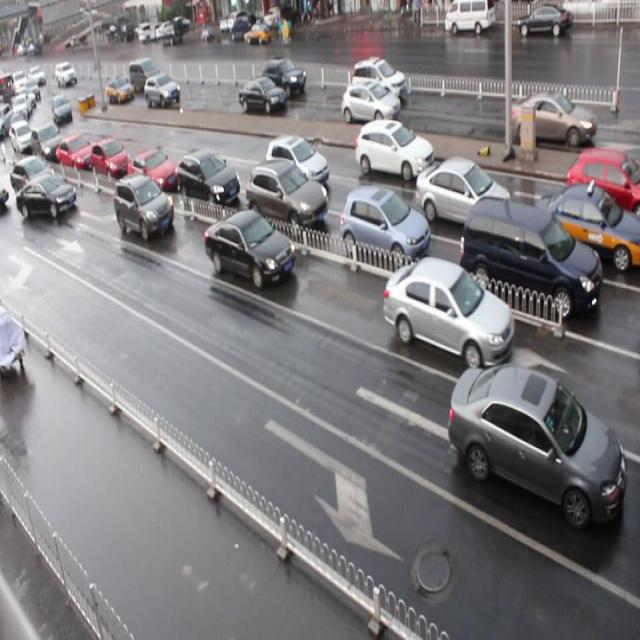car: (446, 356, 627, 528), (383, 254, 515, 368), (530, 183, 640, 272), (415, 156, 514, 233), (339, 185, 429, 269), (203, 209, 295, 290), (245, 158, 328, 233), (564, 145, 640, 221), (508, 91, 596, 151), (354, 117, 432, 184), (114, 174, 175, 240), (175, 149, 240, 204), (265, 133, 327, 189), (340, 79, 400, 127), (17, 175, 76, 218), (127, 144, 176, 194), (351, 57, 405, 102), (260, 58, 306, 98), (11, 158, 59, 196), (238, 77, 286, 115), (53, 130, 91, 176), (91, 138, 128, 176), (31, 124, 64, 164), (144, 72, 180, 107), (106, 76, 134, 103)
truck: (460, 192, 602, 324), (128, 57, 162, 91)
